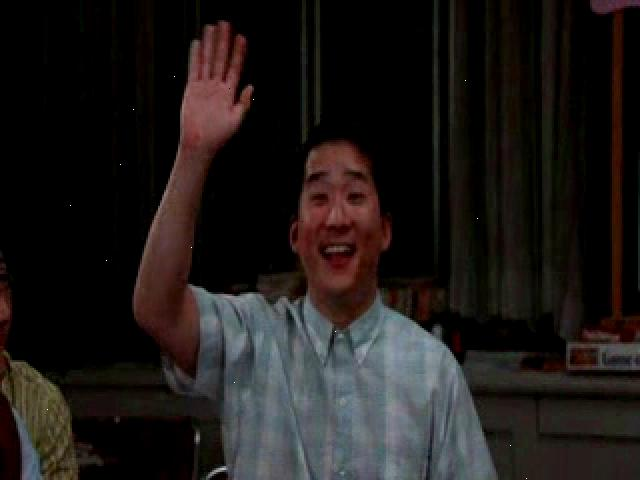T: (124, 10, 513, 480)
